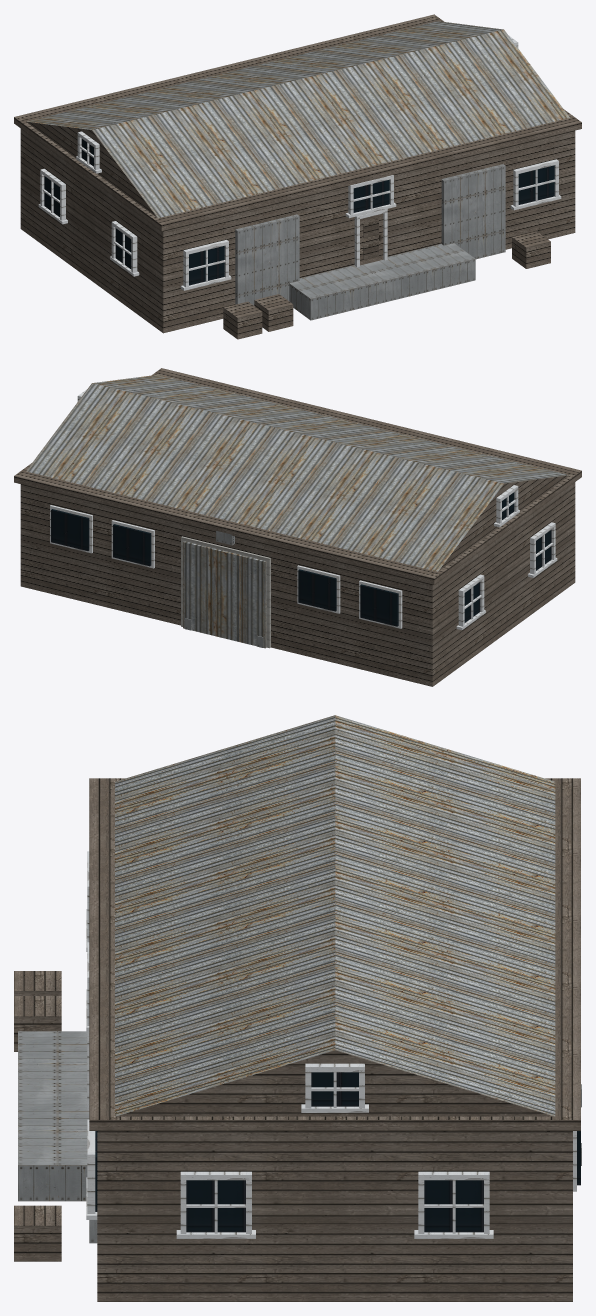
File: orchard-packing-shed_lod0.gltf
3 views of the same model, one above another, from view 1: azimuth 30°, elevation 25°; view 2: azimuth 150°, elevation 25°; view 3: azimuth 270°, elevation 25° (orthographic). The views are drawn at different scales.
Parts seen in each view (by area): view 1: orchard-packing-shed_roof, orchard-packing-shed_walls, orchard-packing-shed__eave_band, orchard-packing-shed__loading_dock, orchard-packing-shed_fen_20-white-clapboard_0, orchard-packing-shed__sliding_door_b, orchard-packing-shed__sliding_door_a, orchard-packing-shed_fen_07-glass-curtain-blue_4_t, orchard-packing-shed_gable_ends, orchard-packing-shed__apple_bin_a, orchard-packing-shed__apple_bin_c, orchard-packing-shed__apple_bin_b (+2 smaller); view 2: orchard-packing-shed_roof, orchard-packing-shed_walls, orchard-packing-shed__eave_band, orchard-packing-shed_fen_21-corrugated-steel_6, orchard-packing-shed_fen_07-glass-curtain-blue_4_t, orchard-packing-shed_fen_20-white-clapboard_0, orchard-packing-shed_gable_ends, orchard-packing-shed_fen_15-concrete-boardformed_5; view 3: orchard-packing-shed_roof, orchard-packing-shed_walls, orchard-packing-shed__eave_band, orchard-packing-shed__loading_dock, orchard-packing-shed_gable_ends, orchard-packing-shed_fen_20-white-clapboard_0, orchard-packing-shed_fen_07-glass-curtain-blue_4_t, orchard-packing-shed__apple_bin_c, orchard-packing-shed__apple_bin_b, orchard-packing-shed__apple_bin_a.
Boxes of the visible parts, box(x1,y1,x2,y2) form: orchard-packing-shed_roof: box(27, 21, 569, 218); orchard-packing-shed_walls: box(20, 128, 575, 333); orchard-packing-shed__eave_band: box(14, 14, 581, 231); orchard-packing-shed__loading_dock: box(289, 243, 475, 320); orchard-packing-shed_fen_20-white-clapboard_0: box(38, 36, 561, 290); orchard-packing-shed__sliding_door_b: box(441, 164, 505, 259); orchard-packing-shed__sliding_door_a: box(235, 214, 299, 305); orchard-packing-shed_fen_07-glass-curtain-blue_4_t: box(44, 139, 554, 285); orchard-packing-shed_gable_ends: box(26, 121, 157, 217); orchard-packing-shed__apple_bin_a: box(223, 301, 262, 339); orchard-packing-shed__apple_bin_c: box(512, 231, 550, 268); orchard-packing-shed__apple_bin_b: box(254, 294, 293, 331); orchard-packing-shed_roof: box(26, 374, 569, 571); orchard-packing-shed_walls: box(20, 482, 575, 686); orchard-packing-shed__eave_band: box(14, 368, 581, 584); orchard-packing-shed_fen_21-corrugated-steel_6: box(183, 541, 266, 648); orchard-packing-shed_fen_07-glass-curtain-blue_4_t: box(51, 492, 551, 626); orchard-packing-shed_fen_20-white-clapboard_0: box(50, 389, 557, 630); orchard-packing-shed_gable_ends: box(438, 475, 569, 571); orchard-packing-shed_fen_15-concrete-boardformed_5: box(181, 536, 270, 648); orchard-packing-shed_roof: box(115, 715, 555, 1116); orchard-packing-shed_walls: box(97, 1131, 572, 1301); orchard-packing-shed__eave_band: box(89, 778, 580, 1130); orchard-packing-shed__loading_dock: box(18, 1031, 89, 1201); orchard-packing-shed_gable_ends: box(116, 1050, 553, 1116); orchard-packing-shed_fen_20-white-clapboard_0: box(86, 723, 576, 1238); orchard-packing-shed_fen_07-glass-curtain-blue_4_t: box(95, 1072, 580, 1232); orchard-packing-shed__apple_bin_c: box(14, 1205, 61, 1261); orchard-packing-shed__apple_bin_b: box(14, 996, 61, 1051); orchard-packing-shed__apple_bin_a: box(14, 971, 61, 995).
Bounding box in the file's own units: 20.55 × 7 × 14.33.
